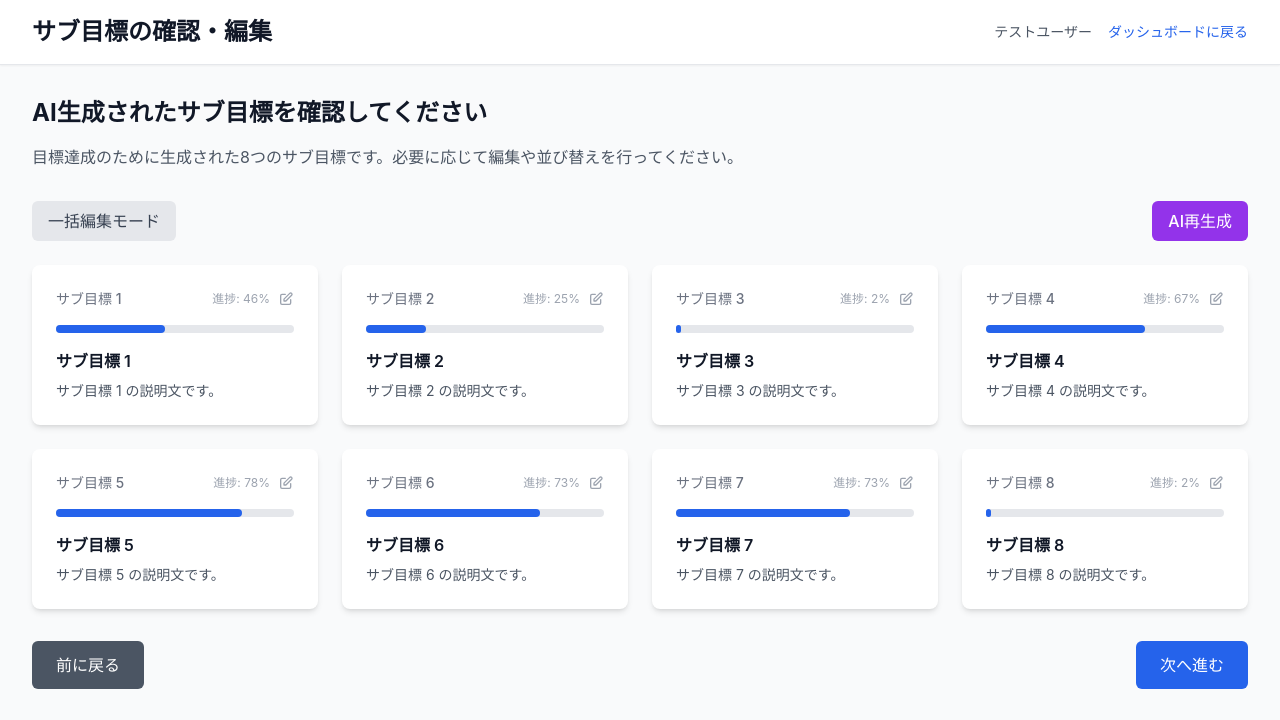
Scenario: SubGoalEditPage › 保存・キャンセル › 保存ボタンで変更を保存できる
Expected: the text "サブ目標 1" is shown, [56,289,122,309]
Click the 1st button named "サブ目標を編集" at (286, 299), box [278,291,294,307]
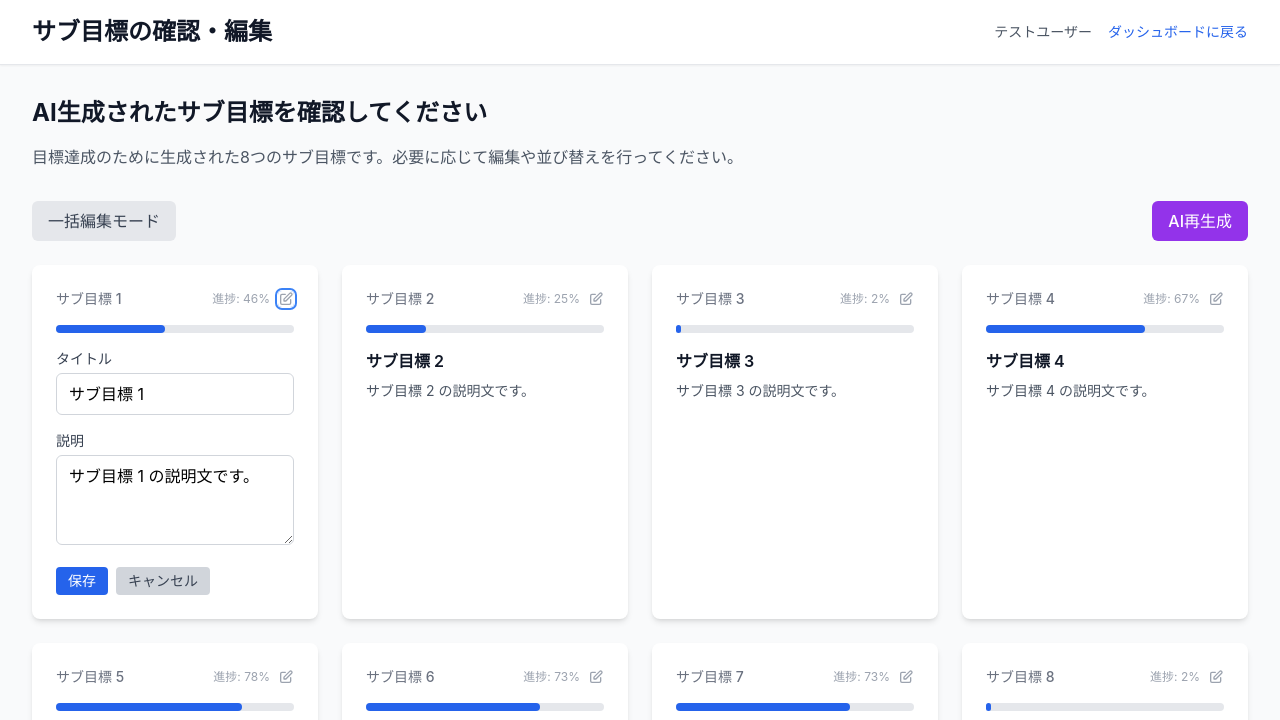
Expected: the button "保存" is shown
Click the button "保存" at (82, 581), box [56,567,108,595]
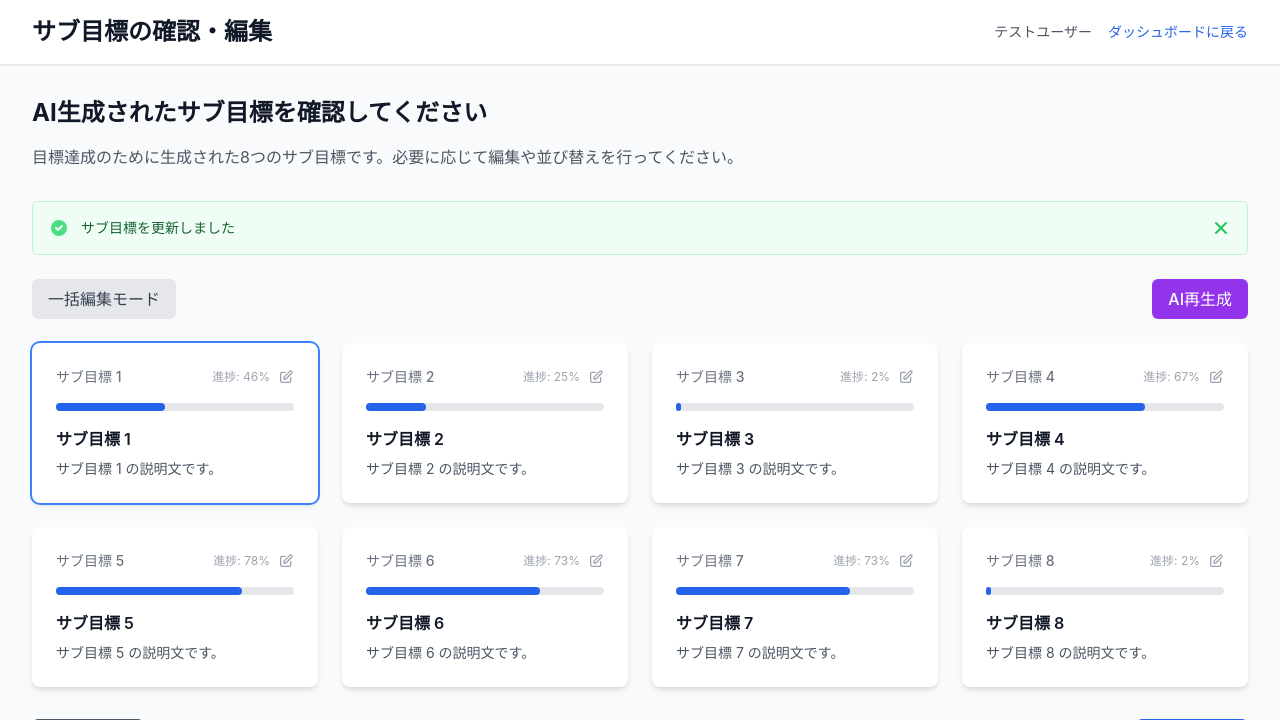
Expected: the text "サブ目標を更新しました" is shown, [81,219,235,236]
